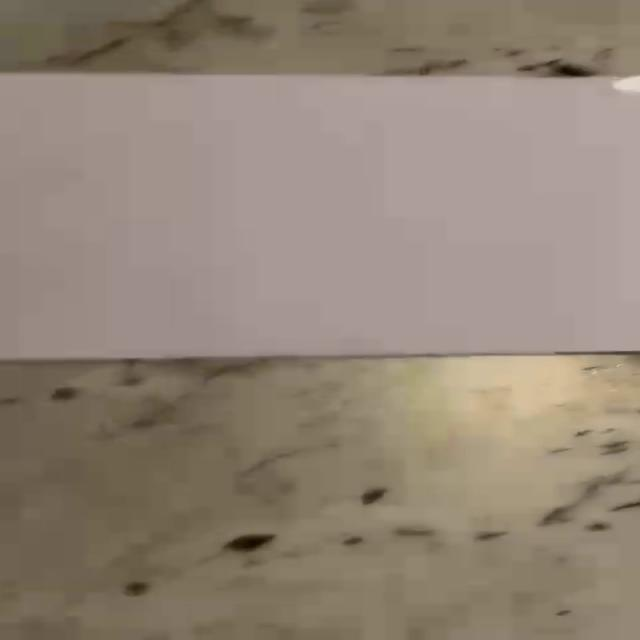road: (1, 74, 640, 360)
